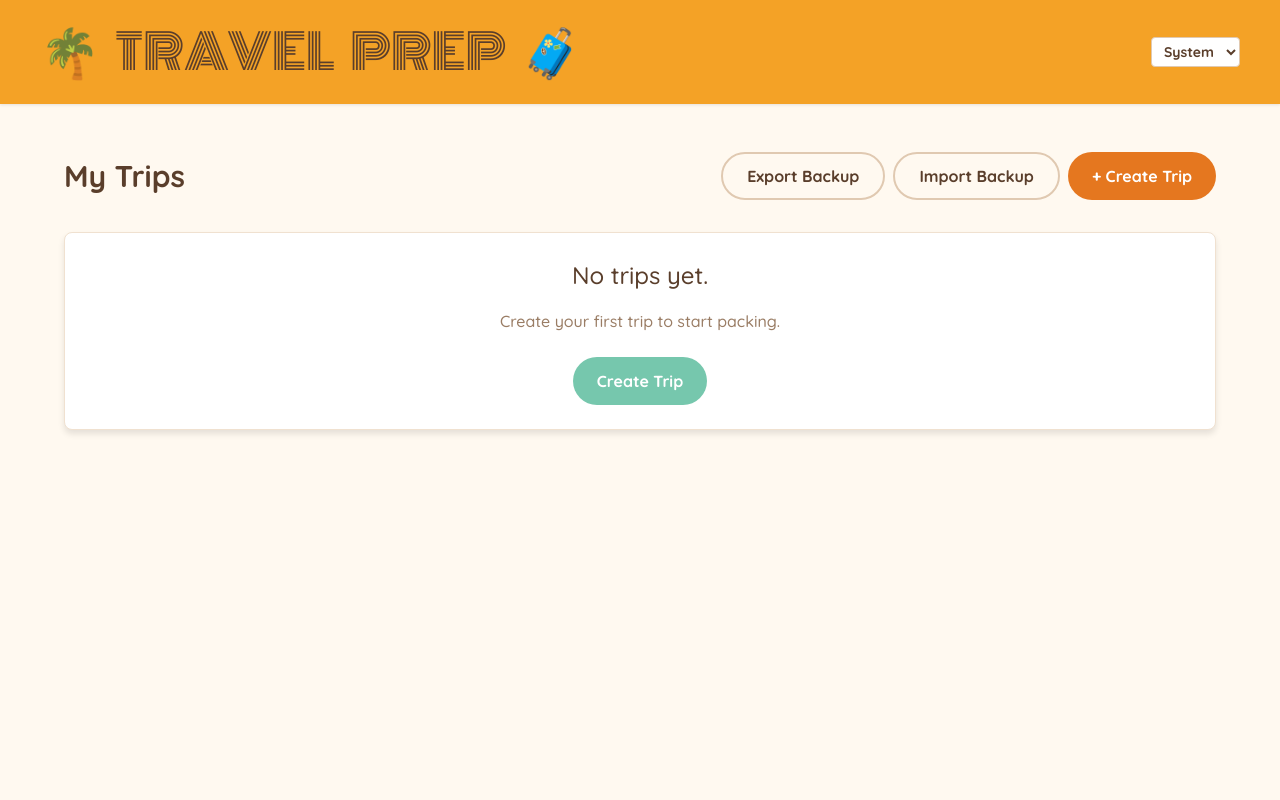
App Integration Tests › creates trip from template
Click the link "+ Create Trip" at (1142, 176), box [1068,152,1216,200]
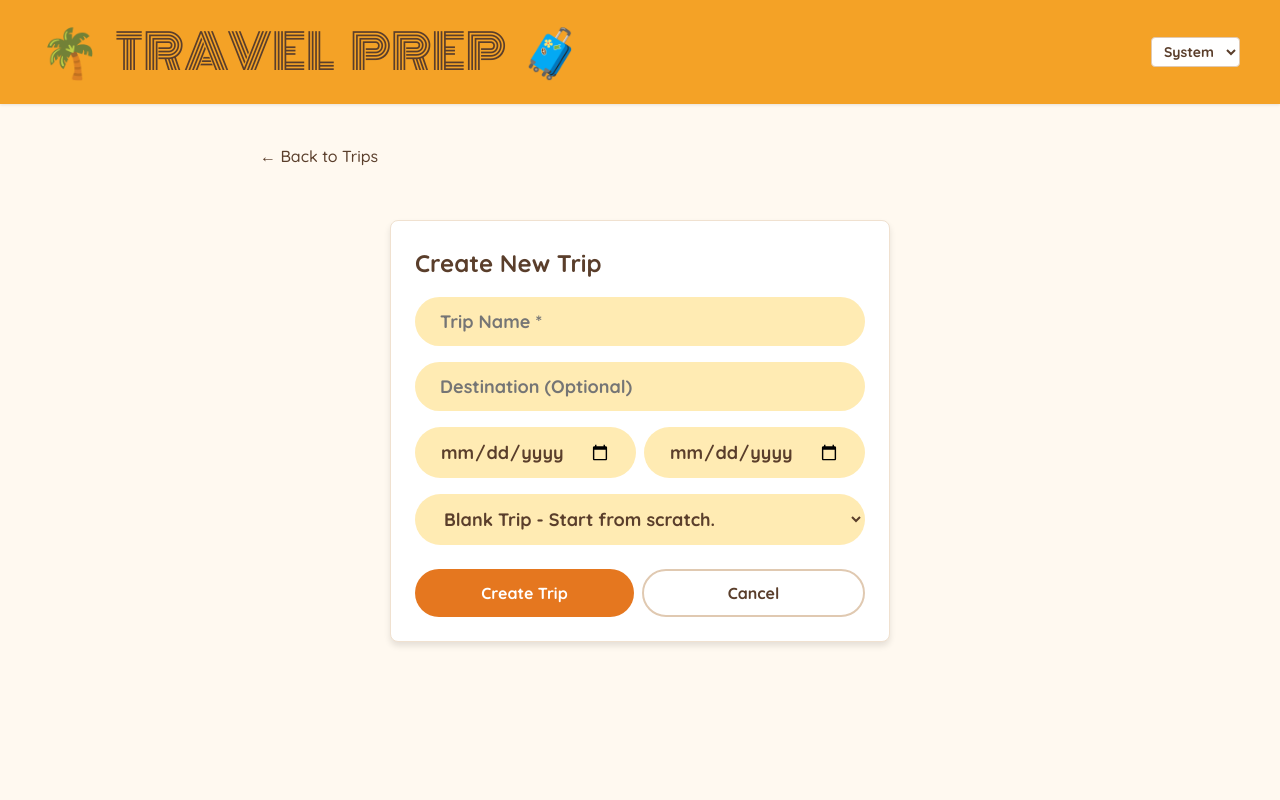
Type "Beach Vacay" into the field labelled "Trip Name" at (640, 322), box [415,297,865,346]
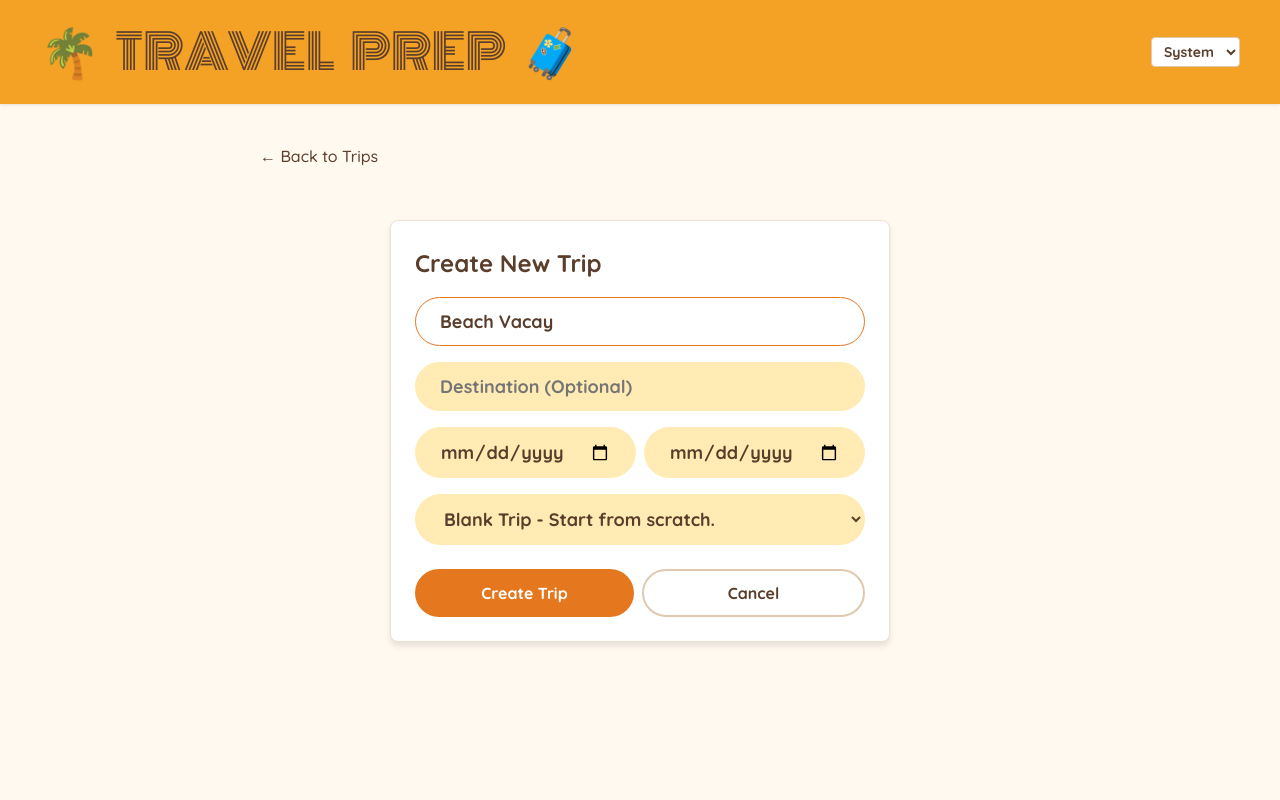
Select "Beach Vacation - Essentials for a beach holiday, including swimwear, sun protect" in the dropdown named "trip template" at (640, 520), box [415,494,865,545]
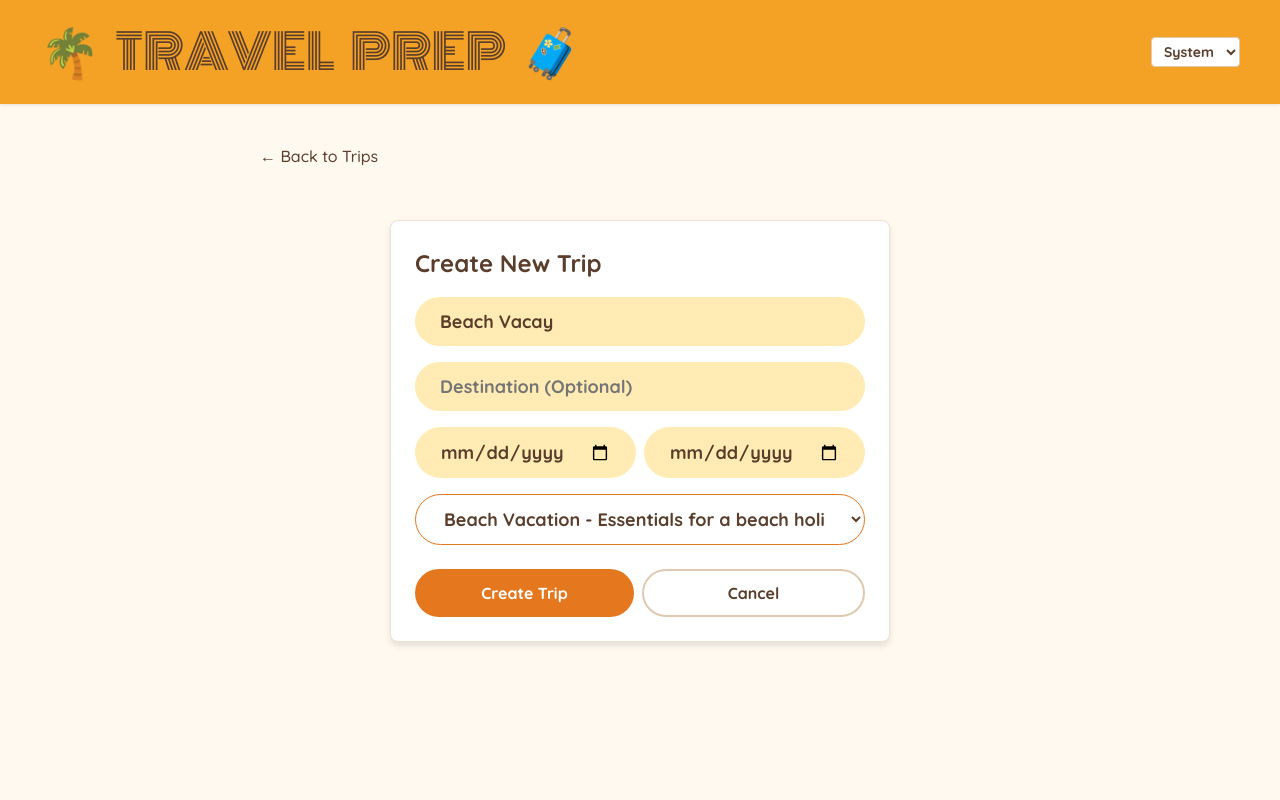
Click the button "Create Trip" at (524, 593), box [415,569,634,617]
(page scrolled)
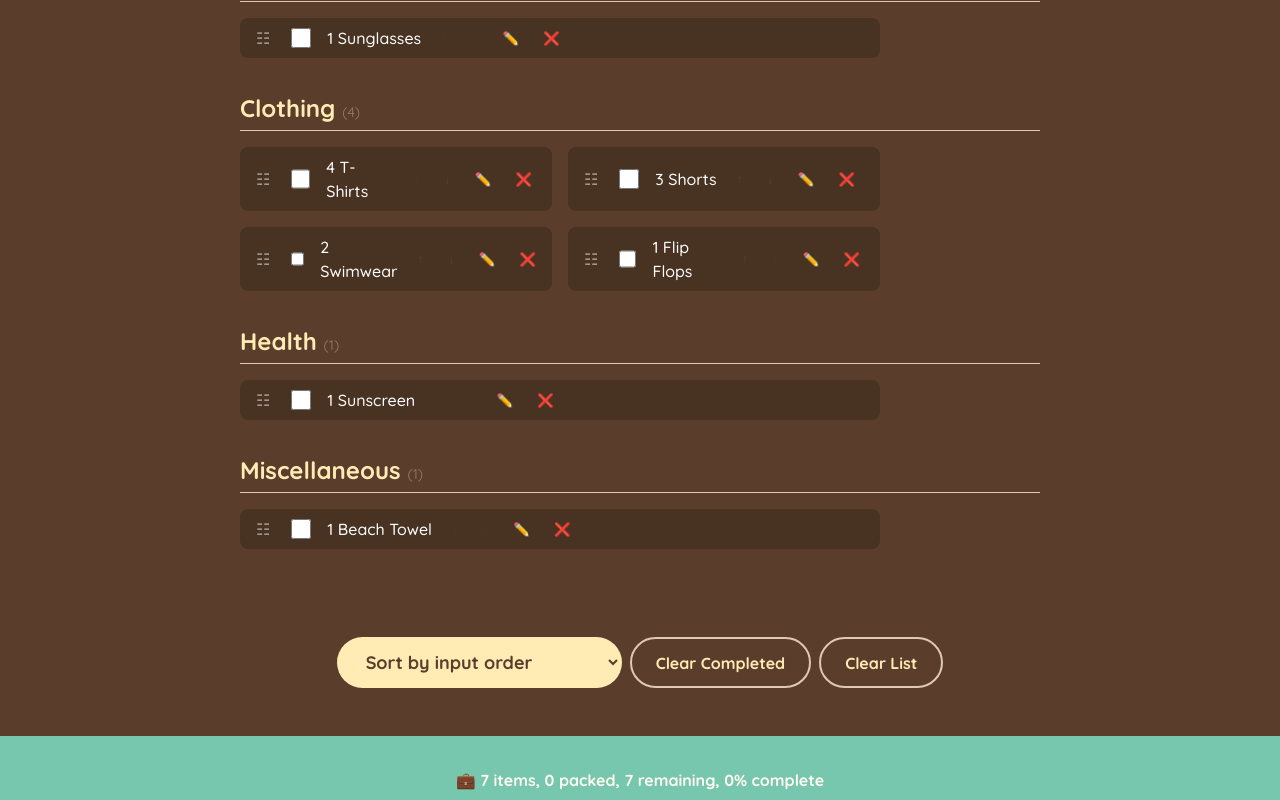
Expected: the text "4 T-Shirts" is shown, [326,157,368,201]
Expected: the text "1 Sunscreen" is shown, [327,388,415,412]
